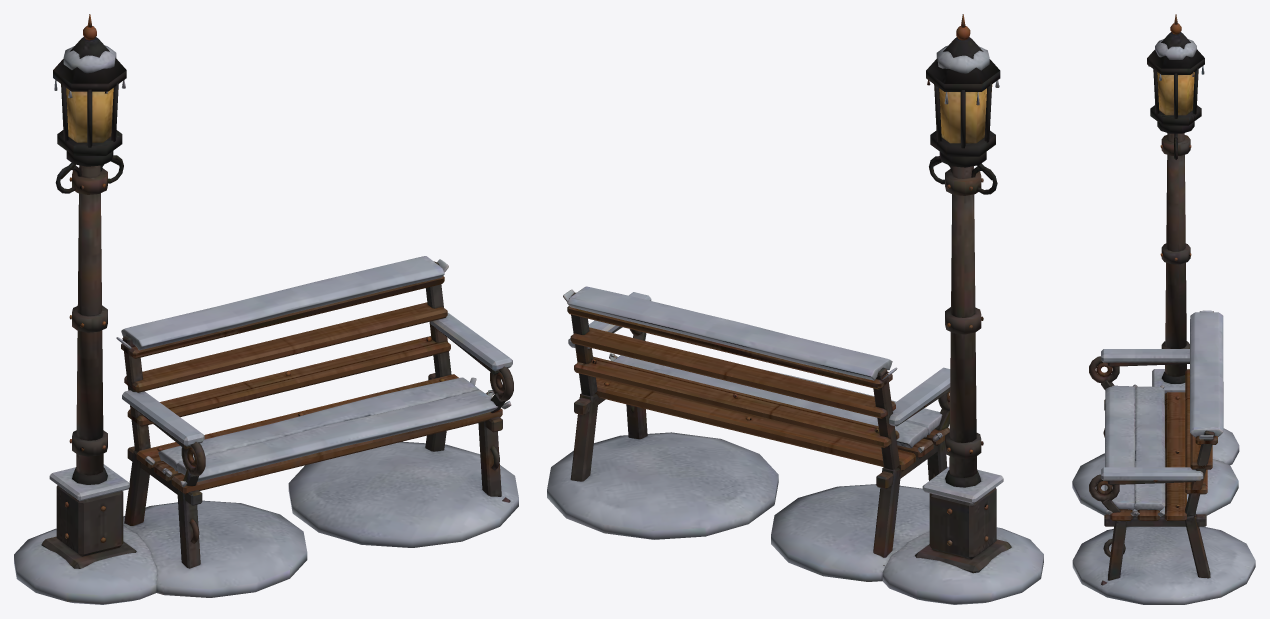
Rendered from benchlamp.glb.
The picture shows the model from 3 angles, left to right: view 1: azimuth 30°, elevation 25°; view 2: azimuth 150°, elevation 25°; view 3: azimuth 270°, elevation 25°; orthographic projection. The views are drawn at different scales.
Visible parts, largest first — view 1: model; view 2: model; view 3: model.
Boxes of the visible parts, x1=… form: model: x1=14, y1=14, x2=518, y2=604; model: x1=547, y1=14, x2=1043, y2=604; model: x1=1072, y1=14, x2=1255, y2=604.
Bounding box in the file's own units: 2.5 × 2.9 × 1.07.
Materials: 2 (2 with a texture image).
